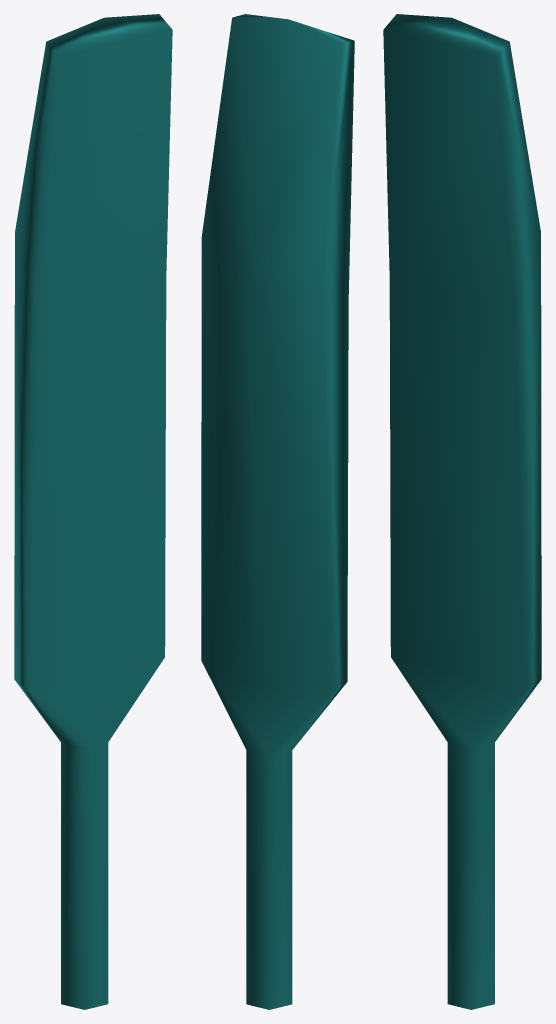
File: cricket_bat_collider.fbx
3 views of the same model, side by side, from view 1: azimuth 30°, elevation 25°; view 2: azimuth 150°, elevation 25°; view 3: azimuth 330°, elevation 25° (orthographic). The views are drawn at different scales.
Parts seen in each view (by area): view 1: cricket_bat_collider; view 2: cricket_bat_collider; view 3: cricket_bat_collider.
Part boxes in pixels (box(x1,y1,x2,y2)): cricket_bat_collider: box(14, 14, 172, 1009); cricket_bat_collider: box(201, 14, 354, 1009); cricket_bat_collider: box(383, 14, 541, 1009).
Size of the model in its own units: 13.62 by 96.4 by 8.61.
